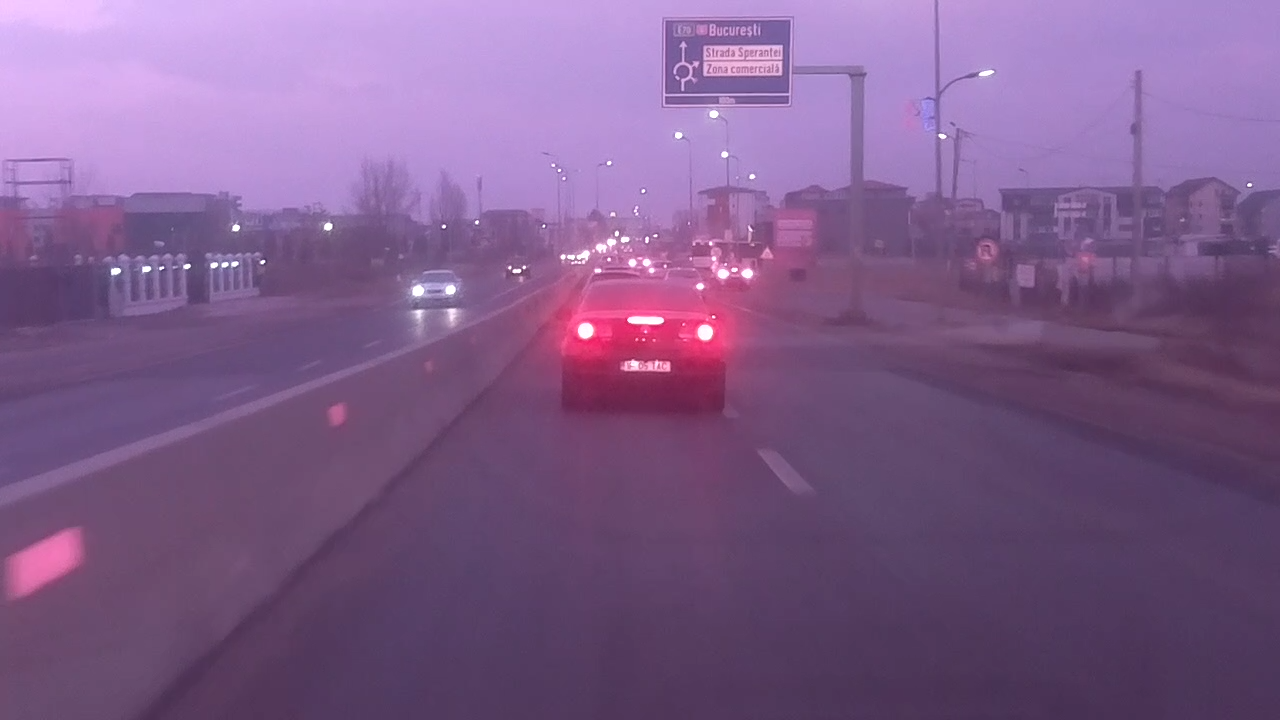license-plate: (618, 357, 673, 373)
